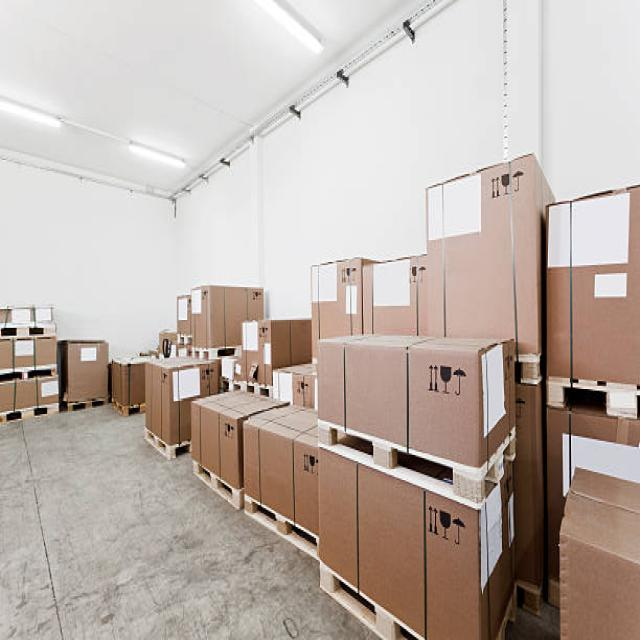Wooden-Pallets: (310, 415, 525, 512), (241, 479, 322, 580), (190, 454, 243, 522), (0, 398, 57, 436), (139, 419, 178, 472)
